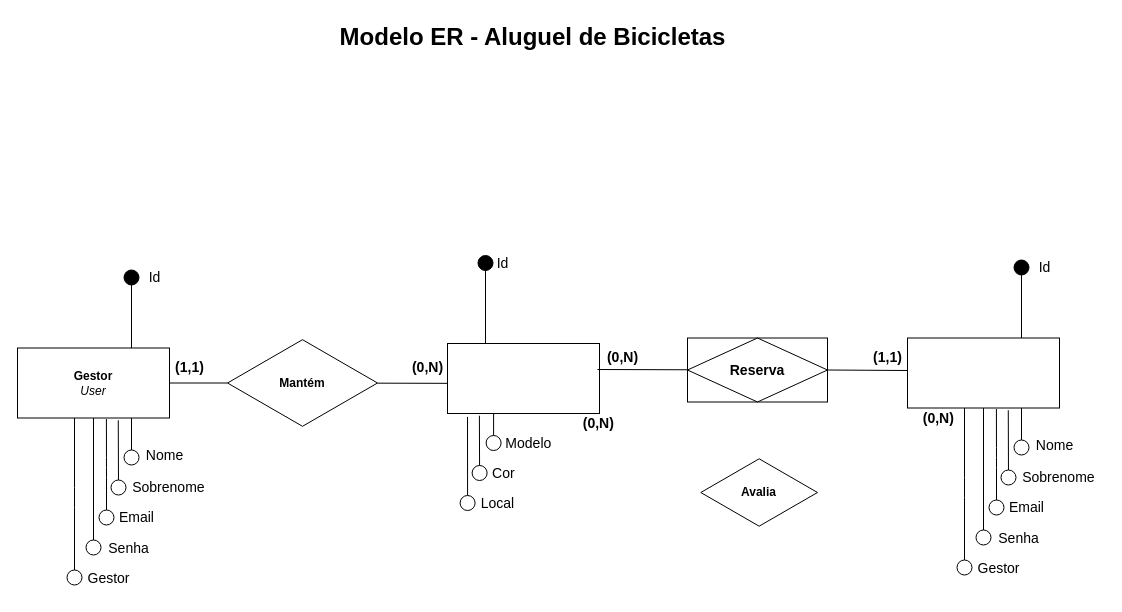
Some shapes in this 1122 by 612 pixel diagram are drawn without their labels. The box of each missing label's shape, as (x1, y1, x2, y2) in pixels:
Bicicleta: (446, 342, 600, 414)
Locatário User: (906, 337, 1060, 408)
